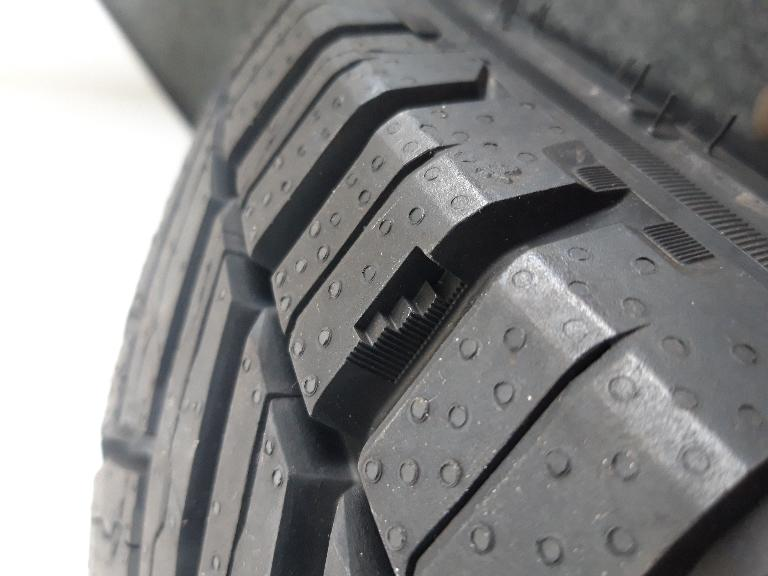temoin:100: (340, 244, 473, 389)
